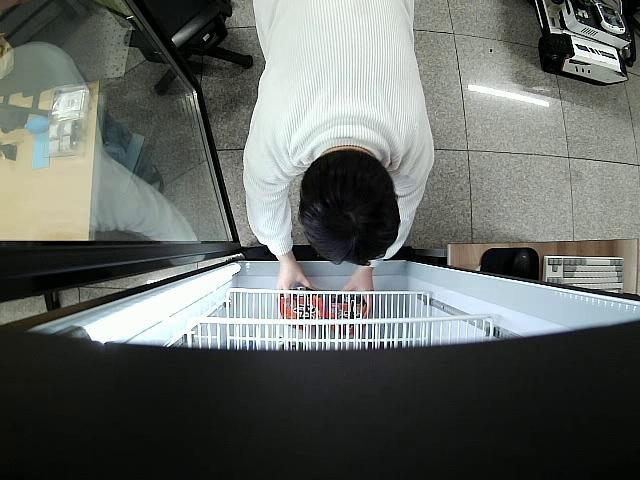01_ShinRamen_L: (279, 288, 322, 332), (328, 296, 368, 334)
